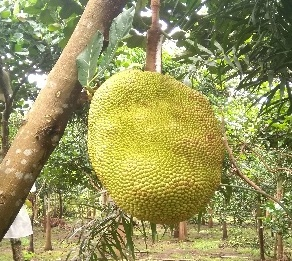Mit: (88, 70, 225, 224)
